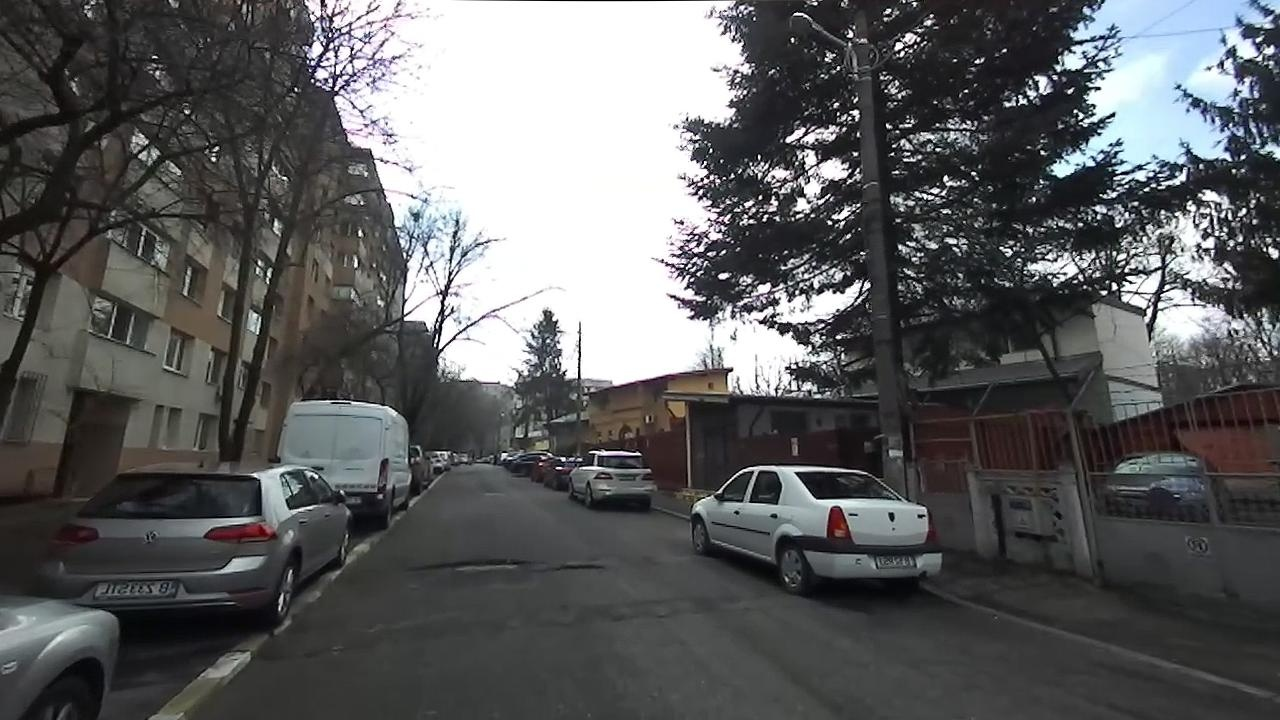pothole: (404, 555, 529, 576), (544, 559, 605, 572)
